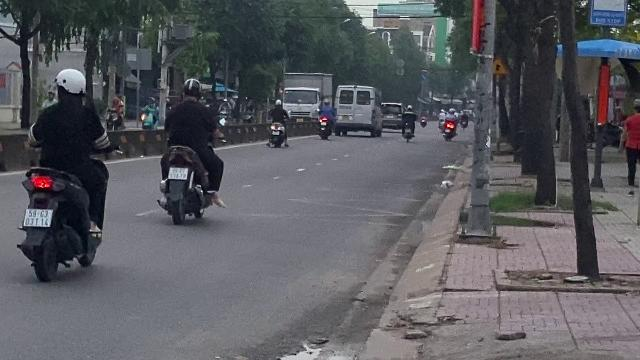helmet: (54, 68, 86, 98), (180, 78, 202, 100)
licenseplate: (24, 209, 52, 227), (168, 167, 188, 179)
motorcyclist: (17, 64, 112, 282), (154, 77, 226, 223)
